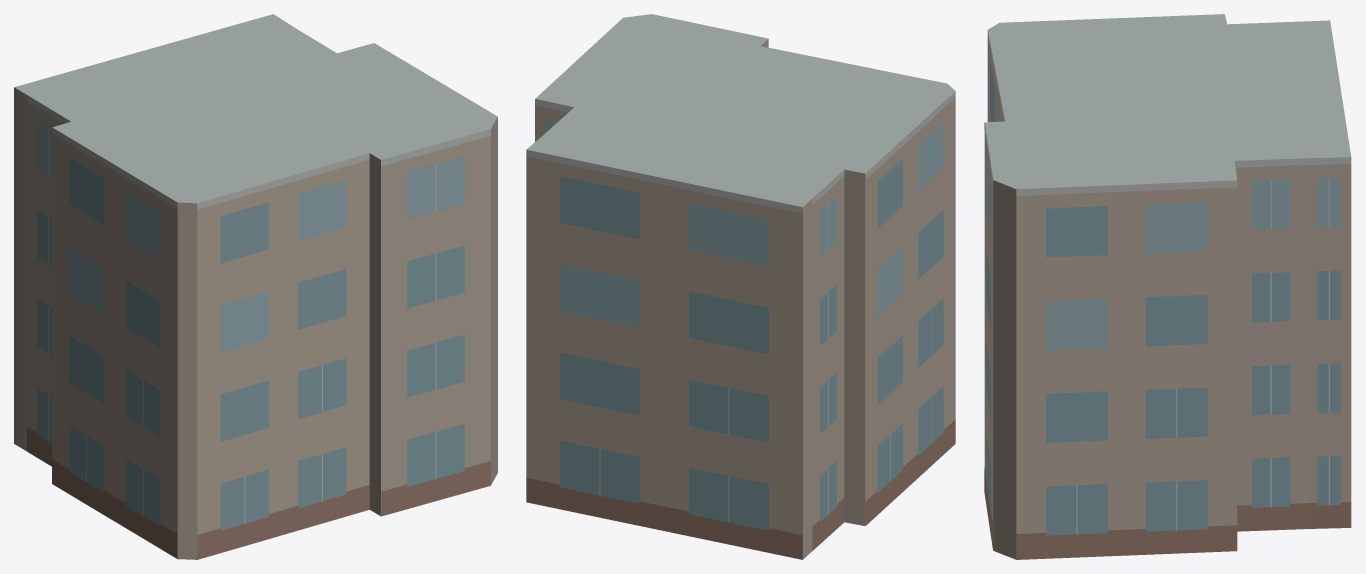
File: survey-upis-32736575.glb
3 views of the same model, side by side, from view 1: azimuth 30°, elevation 25°; view 2: azimuth 150°, elevation 25°; view 3: azimuth 270°, elevation 25° (orthographic). The views are drawn at different scales.
Visible parts, largest first — view 1: survey-upis-32736575.tmp; view 2: survey-upis-32736575.tmp; view 3: survey-upis-32736575.tmp.
Part boxes in pixels (bbox=[...]): survey-upis-32736575.tmp: bbox=[14, 14, 497, 559]; survey-upis-32736575.tmp: bbox=[526, 14, 955, 559]; survey-upis-32736575.tmp: bbox=[984, 14, 1351, 559].
Size of the model in its own units: 13.39 by 13.2 by 11.85.
